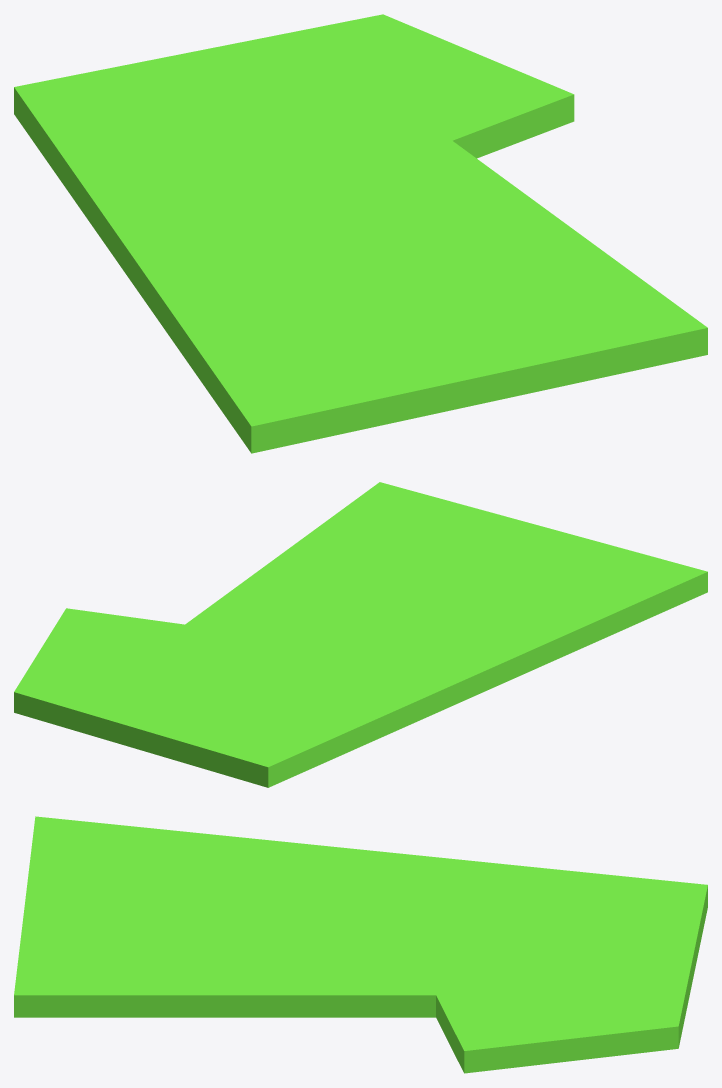
The model's file is rudder.dae.
3 views of the same model, one above another, from view 1: azimuth 30°, elevation 25°; view 2: azimuth 150°, elevation 25°; view 3: azimuth 270°, elevation 25° (orthographic). The views are drawn at different scales.
Visible parts, largest first — view 1: rudder; view 2: rudder; view 3: rudder.
Part boxes in pixels (box(x1,y1,x2,y2)): rudder: box(14, 14, 707, 453); rudder: box(14, 482, 707, 787); rudder: box(14, 816, 707, 1073).
Bounding box in the file's own units: 0.1351 × 0.1688 × 0.006.
